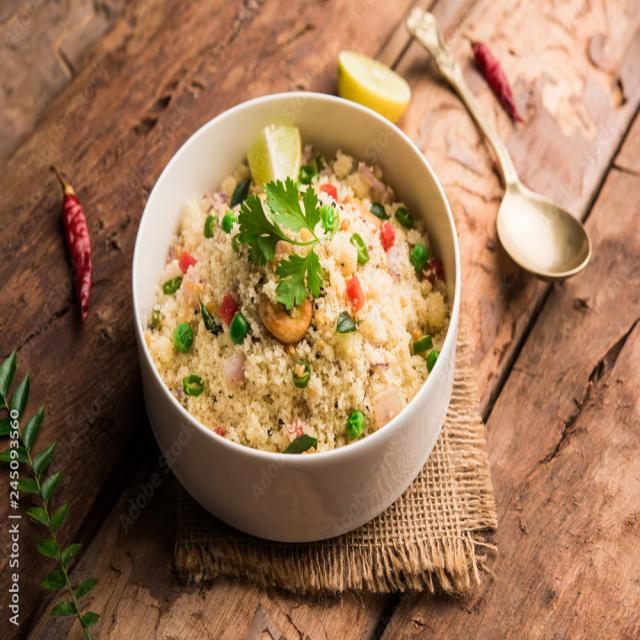UPMA: (151, 129, 452, 454)
